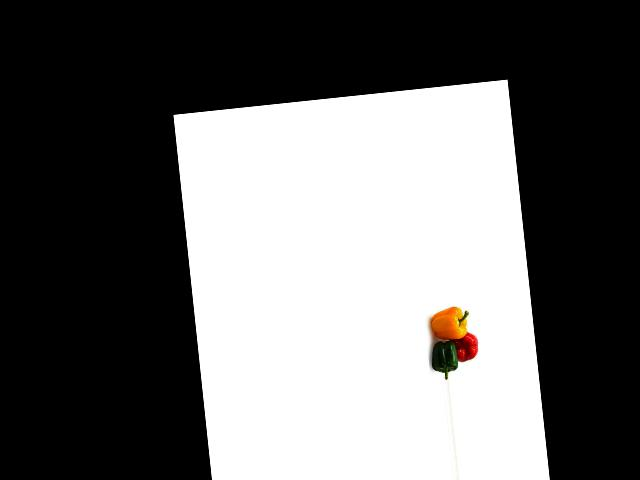bell_pepper: (428, 332, 463, 377)
